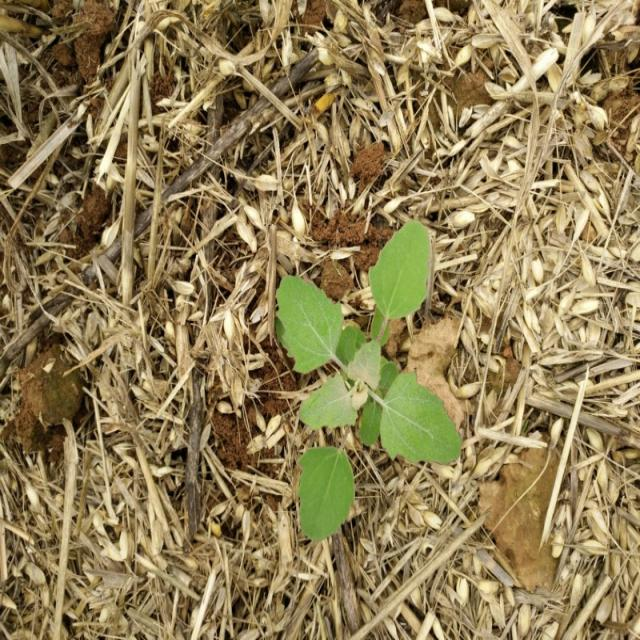ca: (276, 223, 464, 544)
